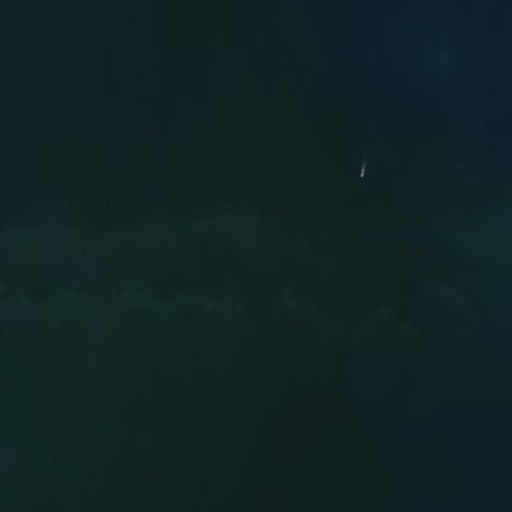ship: (356, 166, 367, 180)
